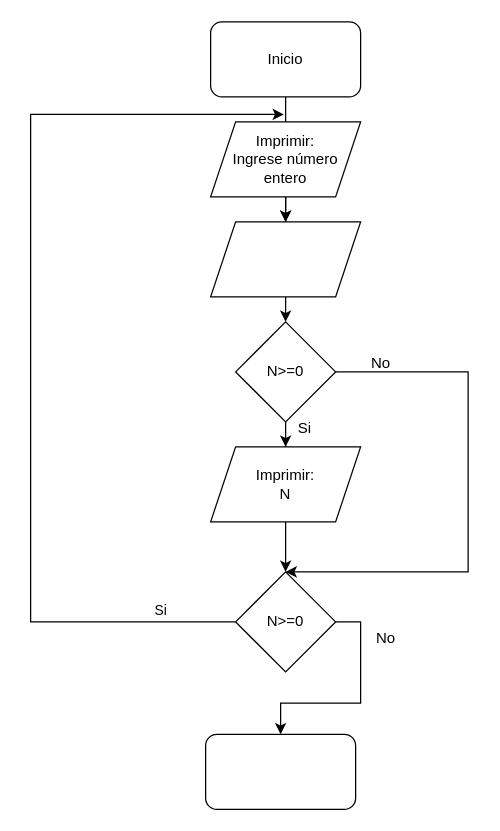
The diagram is 500 pixels wide and 831 high, and some of its shapes have lost their labels. Each missing label, with the centre of its shape:
"Escribir: N" goes at (285,259).
"Fin" goes at (280,771).
